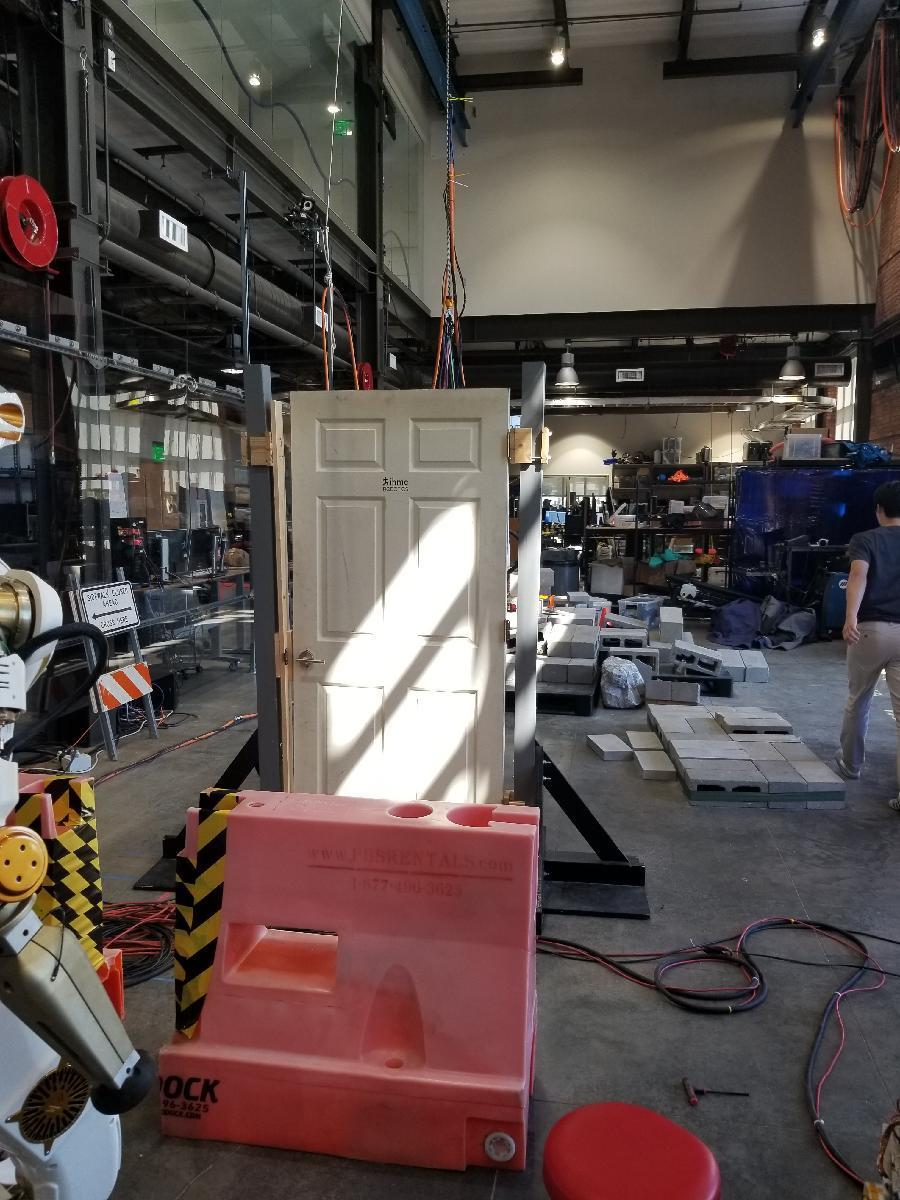door: (294, 388, 510, 843)
handle: (294, 650, 327, 671)
